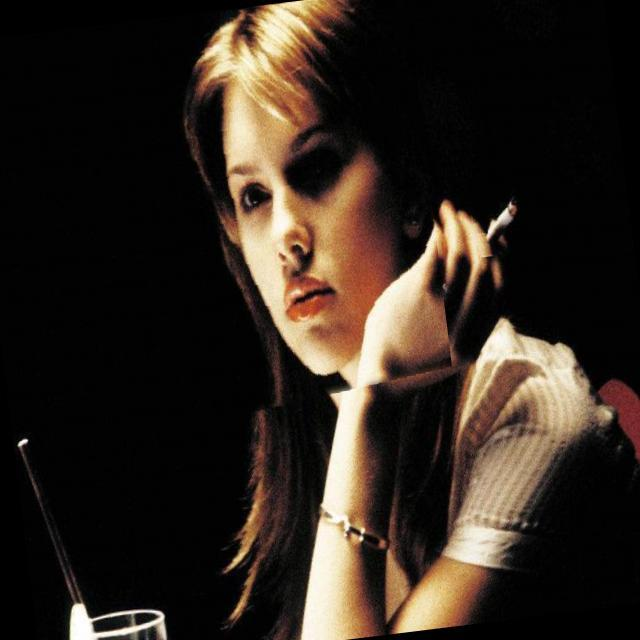cigarette: (466, 188, 532, 258)
